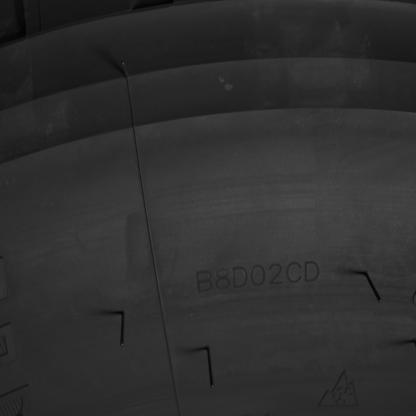ocr: (195, 259, 321, 296)
